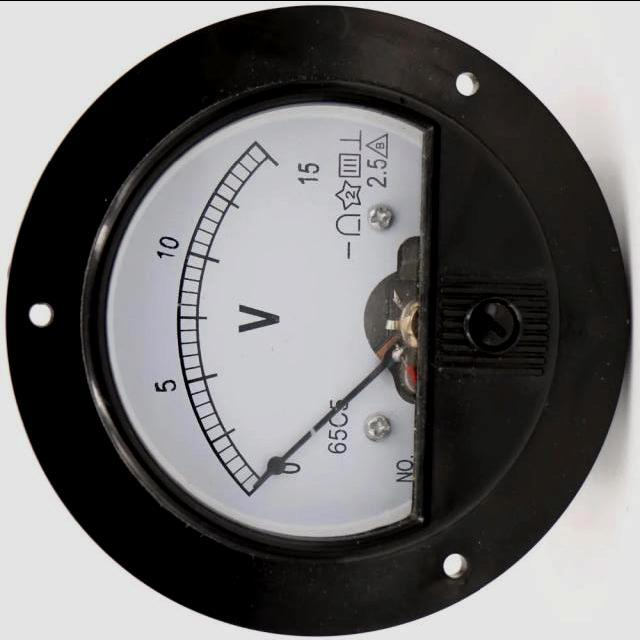Needle_Tip: (238, 408, 312, 528)
Needle_base: (362, 211, 517, 436)
max_value: (267, 132, 346, 208)
min_value: (272, 436, 313, 496)
